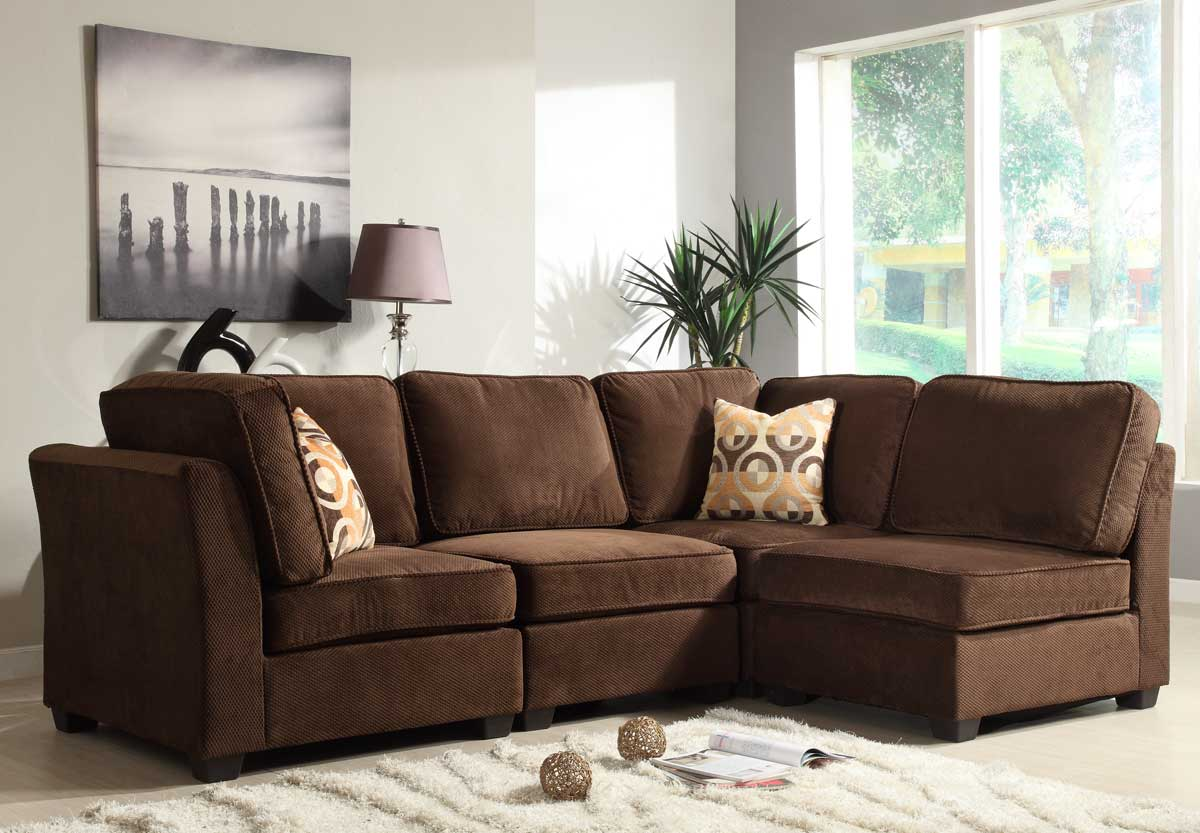chairs: (24, 356, 1186, 749)
